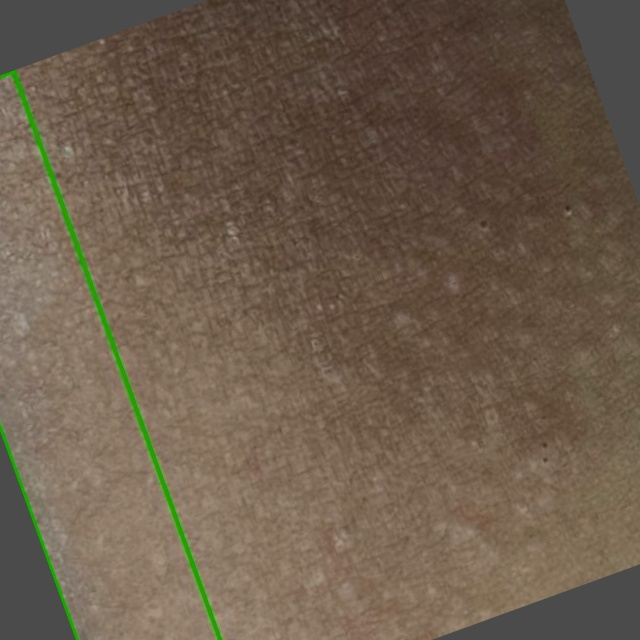Contact Dermatitis: (0, 71, 220, 639)
